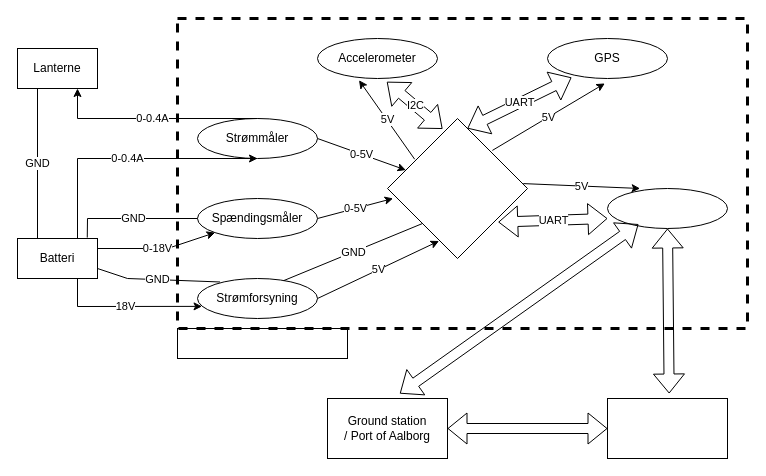
This 766x476 diagram has some shape labels left out. The shapes that lost their labels are listed below. From the top down, each one's centre as x and y in pixels, then its label:
At point 457,188: "MCU".
At point 667,208: "Radio".
At point 262,343: "Modul på bøjen".
At point 667,428: "Andre bøjer".
